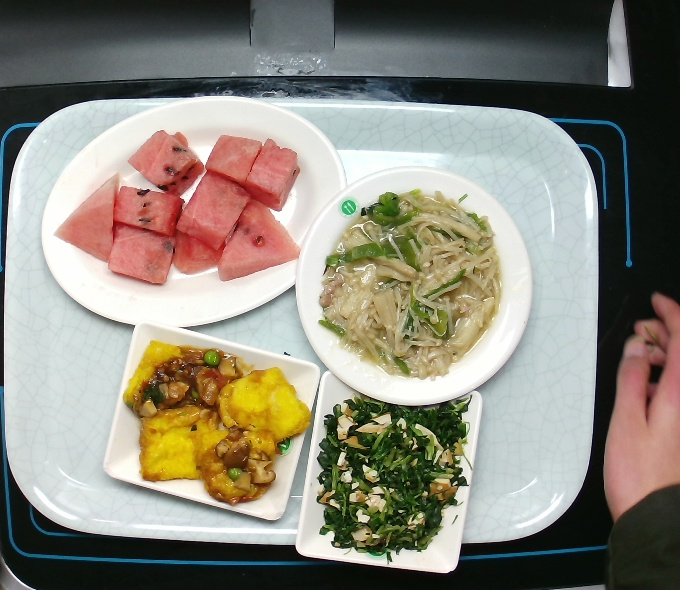wcq-CuiPiDouFu: (119, 336, 317, 507)
wcq-JinZhenGu: (314, 186, 504, 387)
wcq-MaLanTouChaoDouGan: (313, 381, 477, 564)
wcq-XiGua: (50, 125, 305, 287)
